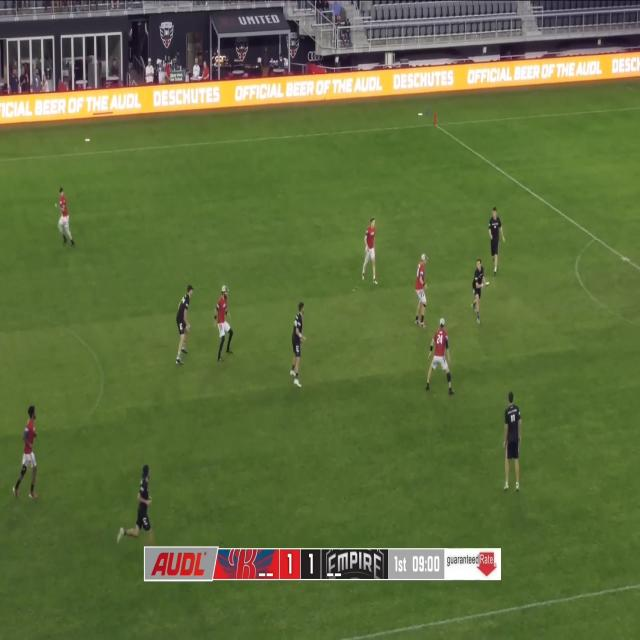Disc: (486, 282, 490, 286), (85, 139, 90, 141), (418, 114, 423, 115)
Player: (118, 464, 153, 546), (426, 319, 454, 395), (502, 391, 522, 493), (176, 284, 194, 365), (214, 286, 233, 362), (290, 302, 306, 387), (25, 406, 38, 501), (55, 187, 75, 247), (489, 206, 505, 277), (362, 218, 378, 285), (471, 258, 486, 326), (415, 254, 428, 329)
